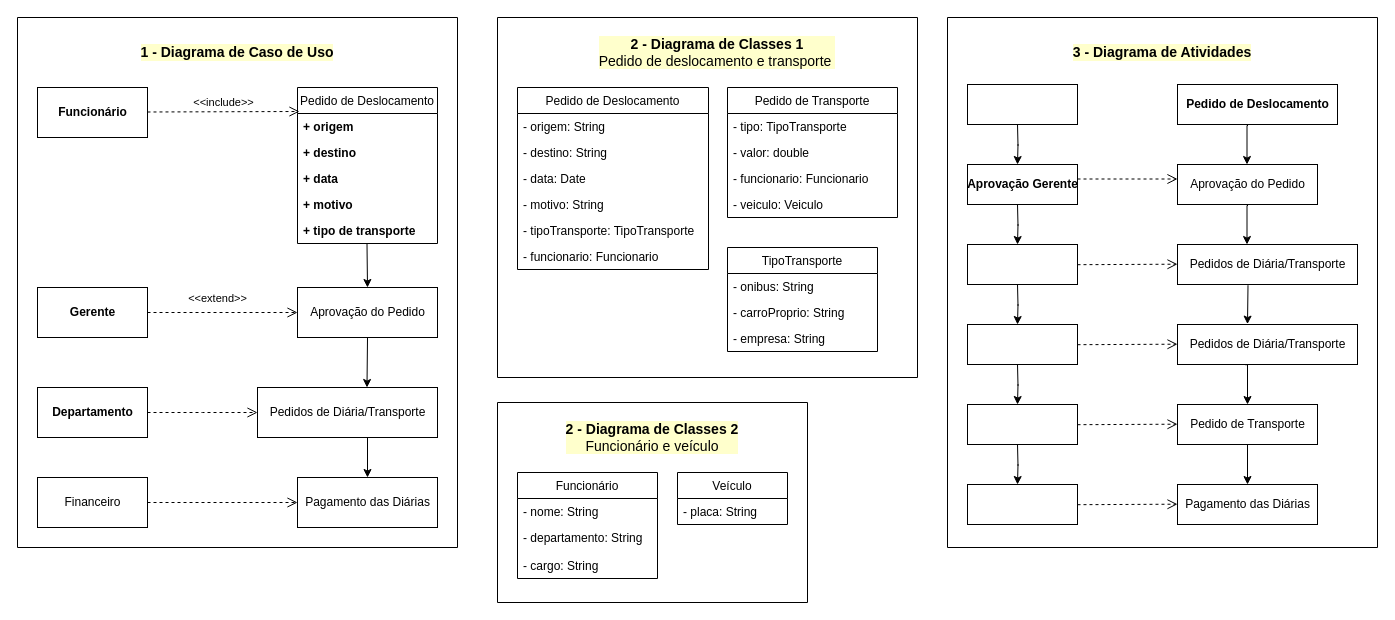
Image size: 1395x620. Some labels were removed from this diagram. The centre of each missing label's shape, as x and y in pixels:
Calcular Diárias: the point at 1022,504
Solicitar Diária: the point at 1022,264
Solicitar Pedido: the point at 1022,104
Solicitar Transporte: the point at 1022,344
Verificar Veículo: the point at 1022,424
